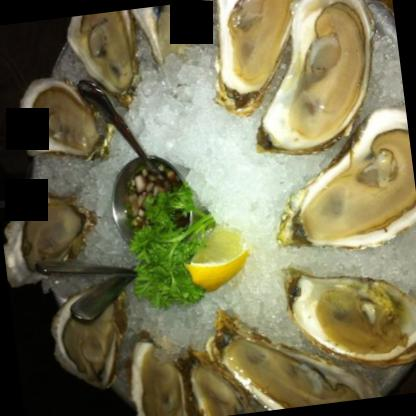oyster: (260, 110, 415, 264), (240, 0, 381, 159), (206, 304, 376, 416), (286, 253, 415, 373), (202, 0, 312, 111), (0, 184, 92, 284), (46, 283, 127, 395), (10, 76, 104, 166), (68, 8, 140, 99), (117, 330, 190, 415), (184, 348, 256, 415)
